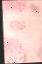plaque psoriasis: (1, 31, 22, 64), (0, 0, 41, 16), (32, 35, 42, 63), (8, 19, 23, 31), (27, 3, 38, 14)
